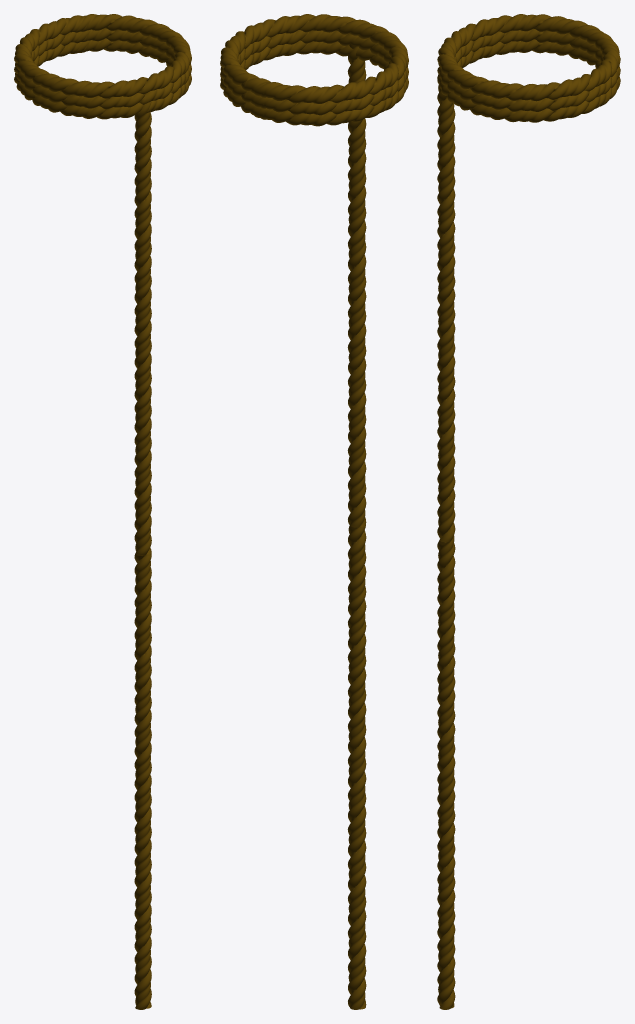
The model's file is Rope.fbx.
3 views of the same model, side by side, from view 1: azimuth 30°, elevation 25°; view 2: azimuth 150°, elevation 25°; view 3: azimuth 270°, elevation 25° (orthographic). The views are drawn at different scales.
Parts seen in each view (by area): view 1: 원형, 원형.003, 원형.002, 원형.001; view 2: 원형, 원형.003, 원형.002, 원형.001; view 3: 원형, 원형.003, 원형.002, 원형.001.
Part boxes in pixels (<box>): 원형: <box>134,101,151,1009</box>; 원형.003: <box>14,14,191,98</box>; 원형.002: <box>14,28,191,109</box>; 원형.001: <box>14,38,191,119</box>; 원형: <box>347,44,366,1009</box>; 원형.003: <box>220,14,408,103</box>; 원형.002: <box>220,30,408,115</box>; 원형.001: <box>220,40,408,126</box>; 원형: <box>437,74,455,1009</box>; 원형.003: <box>437,14,620,101</box>; 원형.002: <box>437,29,620,111</box>; 원형.001: <box>437,39,620,122</box>.
Bounding box in the file's own units: 1.54 × 8.88 × 1.54.
